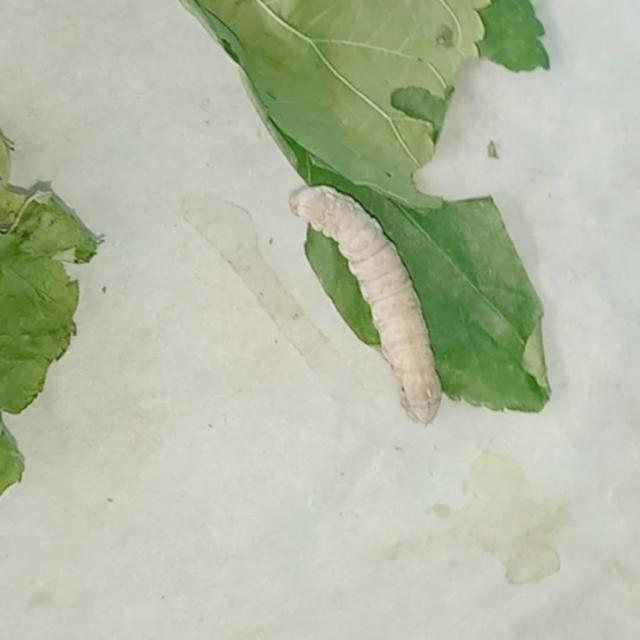Grasserie: (246, 147, 492, 454)
